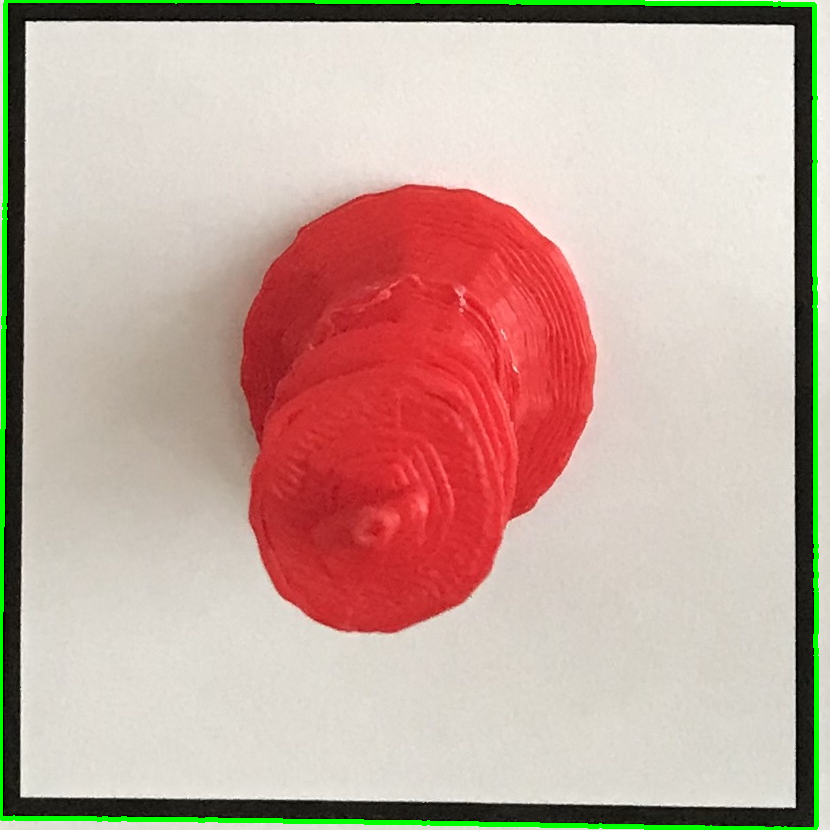Red King: (220, 168, 609, 646)
